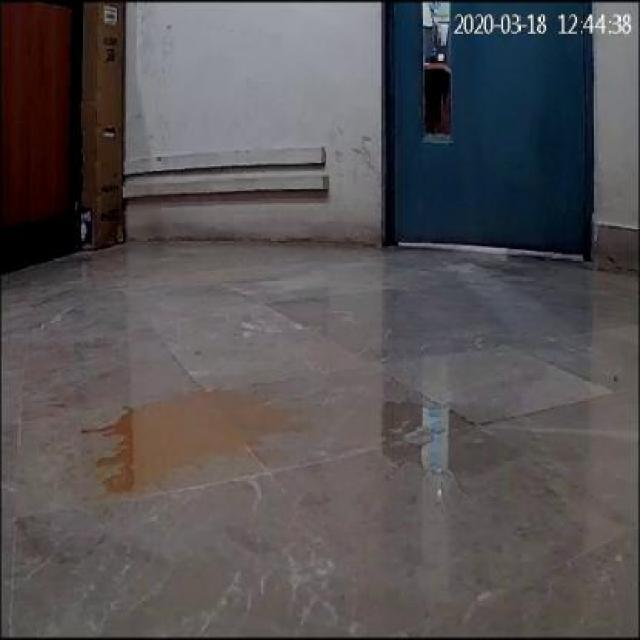spill: (73, 374, 307, 502), (380, 388, 505, 484)
